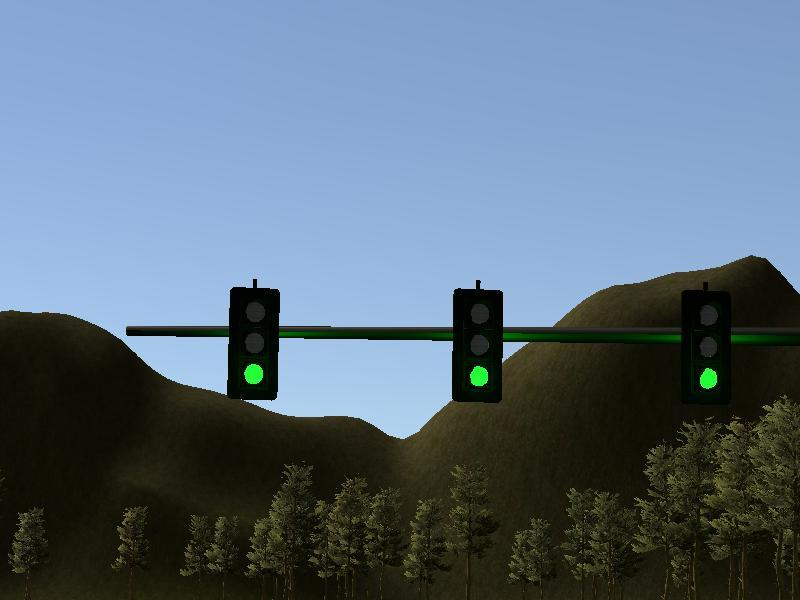Green: (681, 290, 730, 404), (454, 288, 500, 404), (230, 287, 277, 400)
